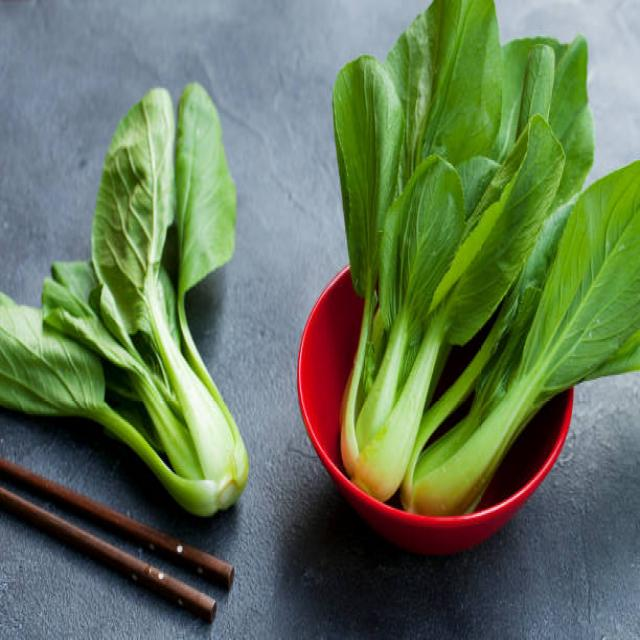bok choy: (19, 114, 299, 445), (488, 166, 640, 486), (344, 29, 410, 479)
